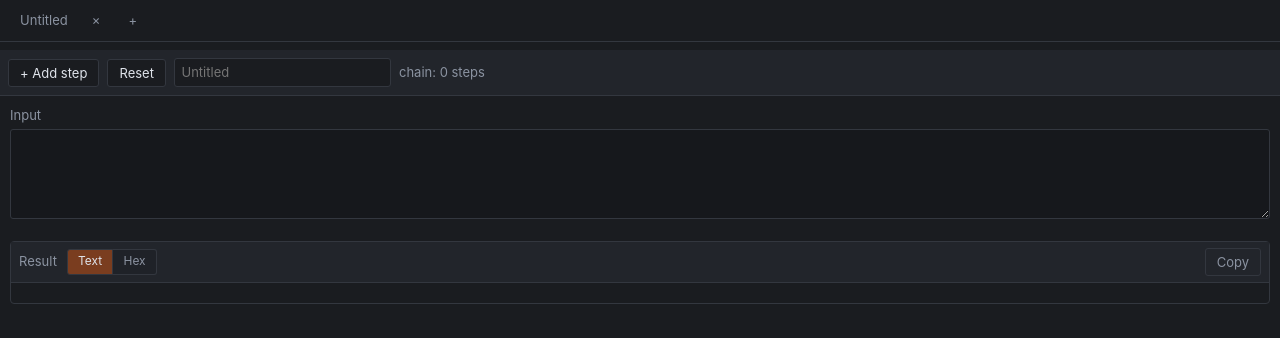
decoder tabs › closes a tab
This screenshot has width=1280, height=338.
Type "one" into the text box named "decoder input". click: (640, 174)
box: [10,129,1270,219]
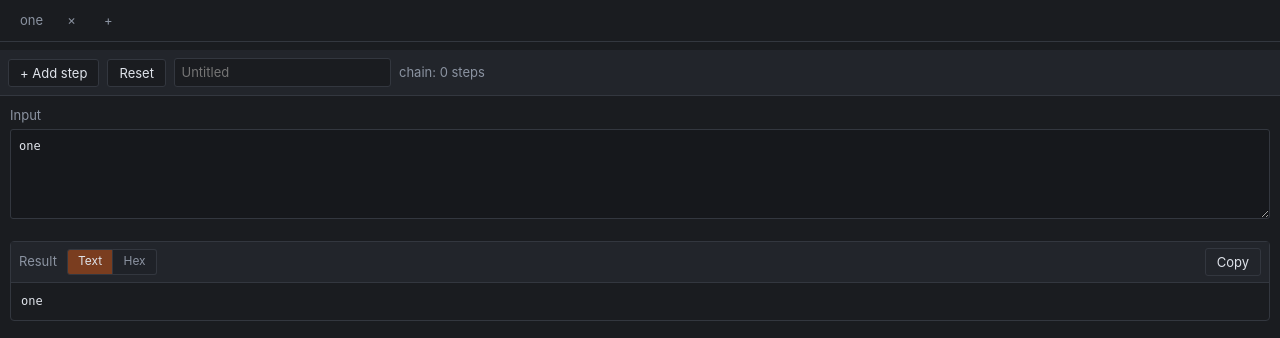
Click the button named "New decoder tab". click: (108, 21)
box: [92,6,125,35]
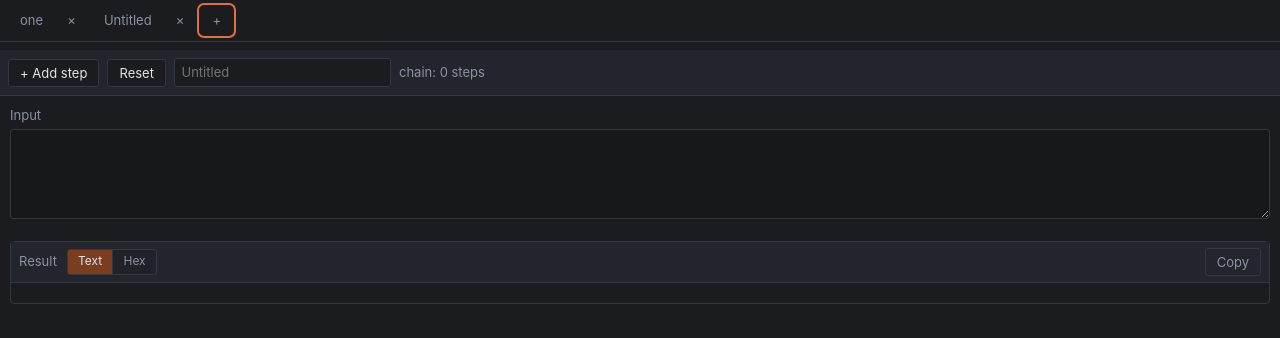
Type "two" into the text box named "decoder input". click: (640, 174)
box: [10,129,1270,219]
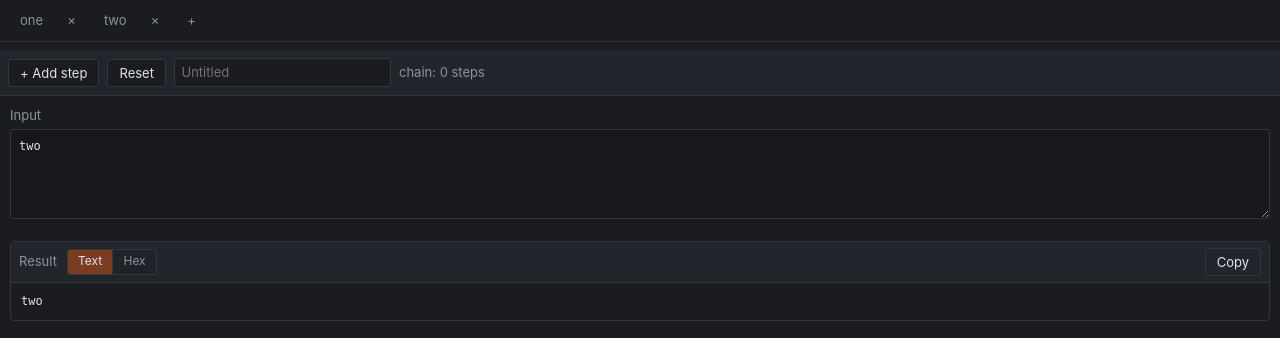
Click the 2nd button "×". click: (155, 21)
box: [139,6,171,35]
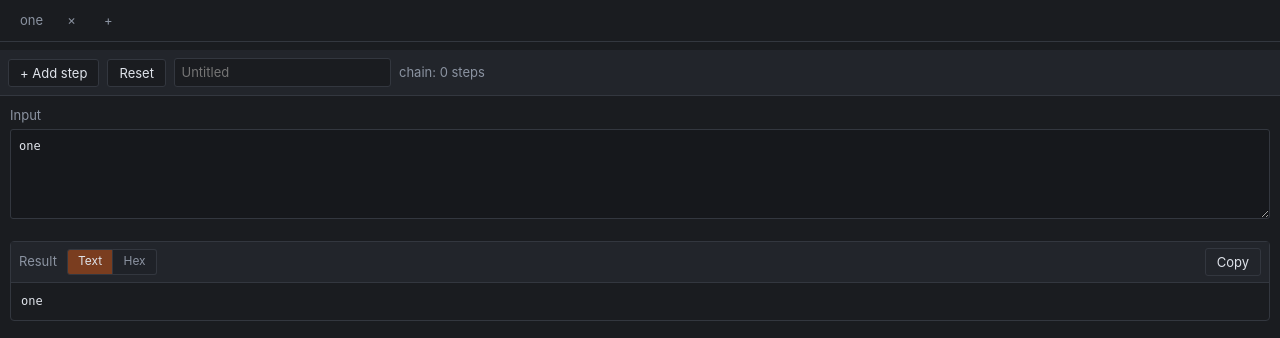
Now the button "two" is gone
